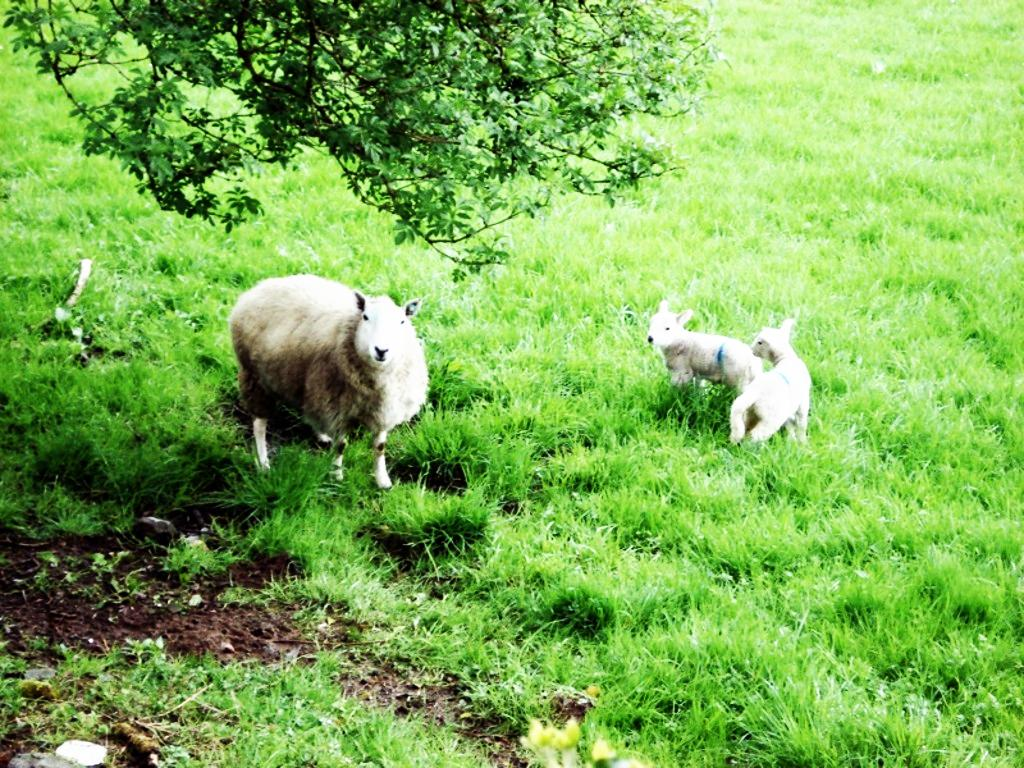Sheep: (225, 272, 430, 490), (726, 322, 814, 454), (648, 304, 756, 397)
